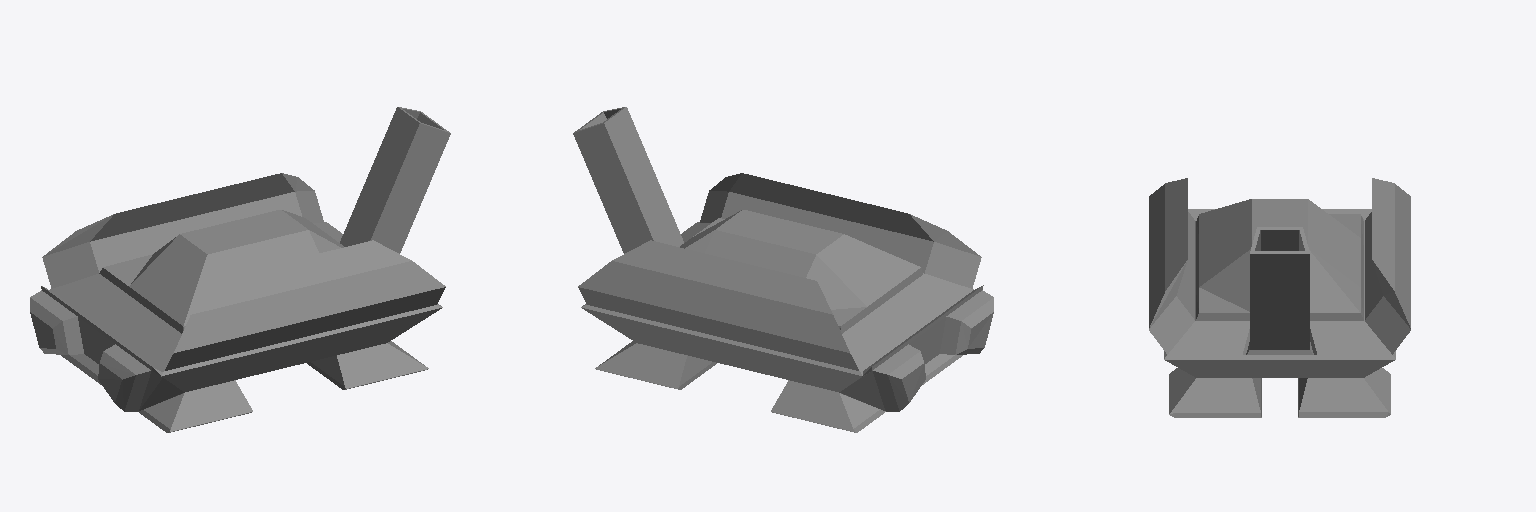
Rendered from tank.obj.
3 views of the same model, side by side, from view 1: azimuth 30°, elevation 25°; view 2: azimuth 150°, elevation 25°; view 3: azimuth 270°, elevation 25° (orthographic).
Visible parts, largest first — view 1: pCube1; view 2: pCube1; view 3: pCube1.
Boxes of the visible parts, <box> form: pCube1: <box>30,107,450,432</box>; pCube1: <box>573,107,993,432</box>; pCube1: <box>1149,178,1410,417</box>.
Size of the model in its own units: 24.87 by 13.72 by 15.73.